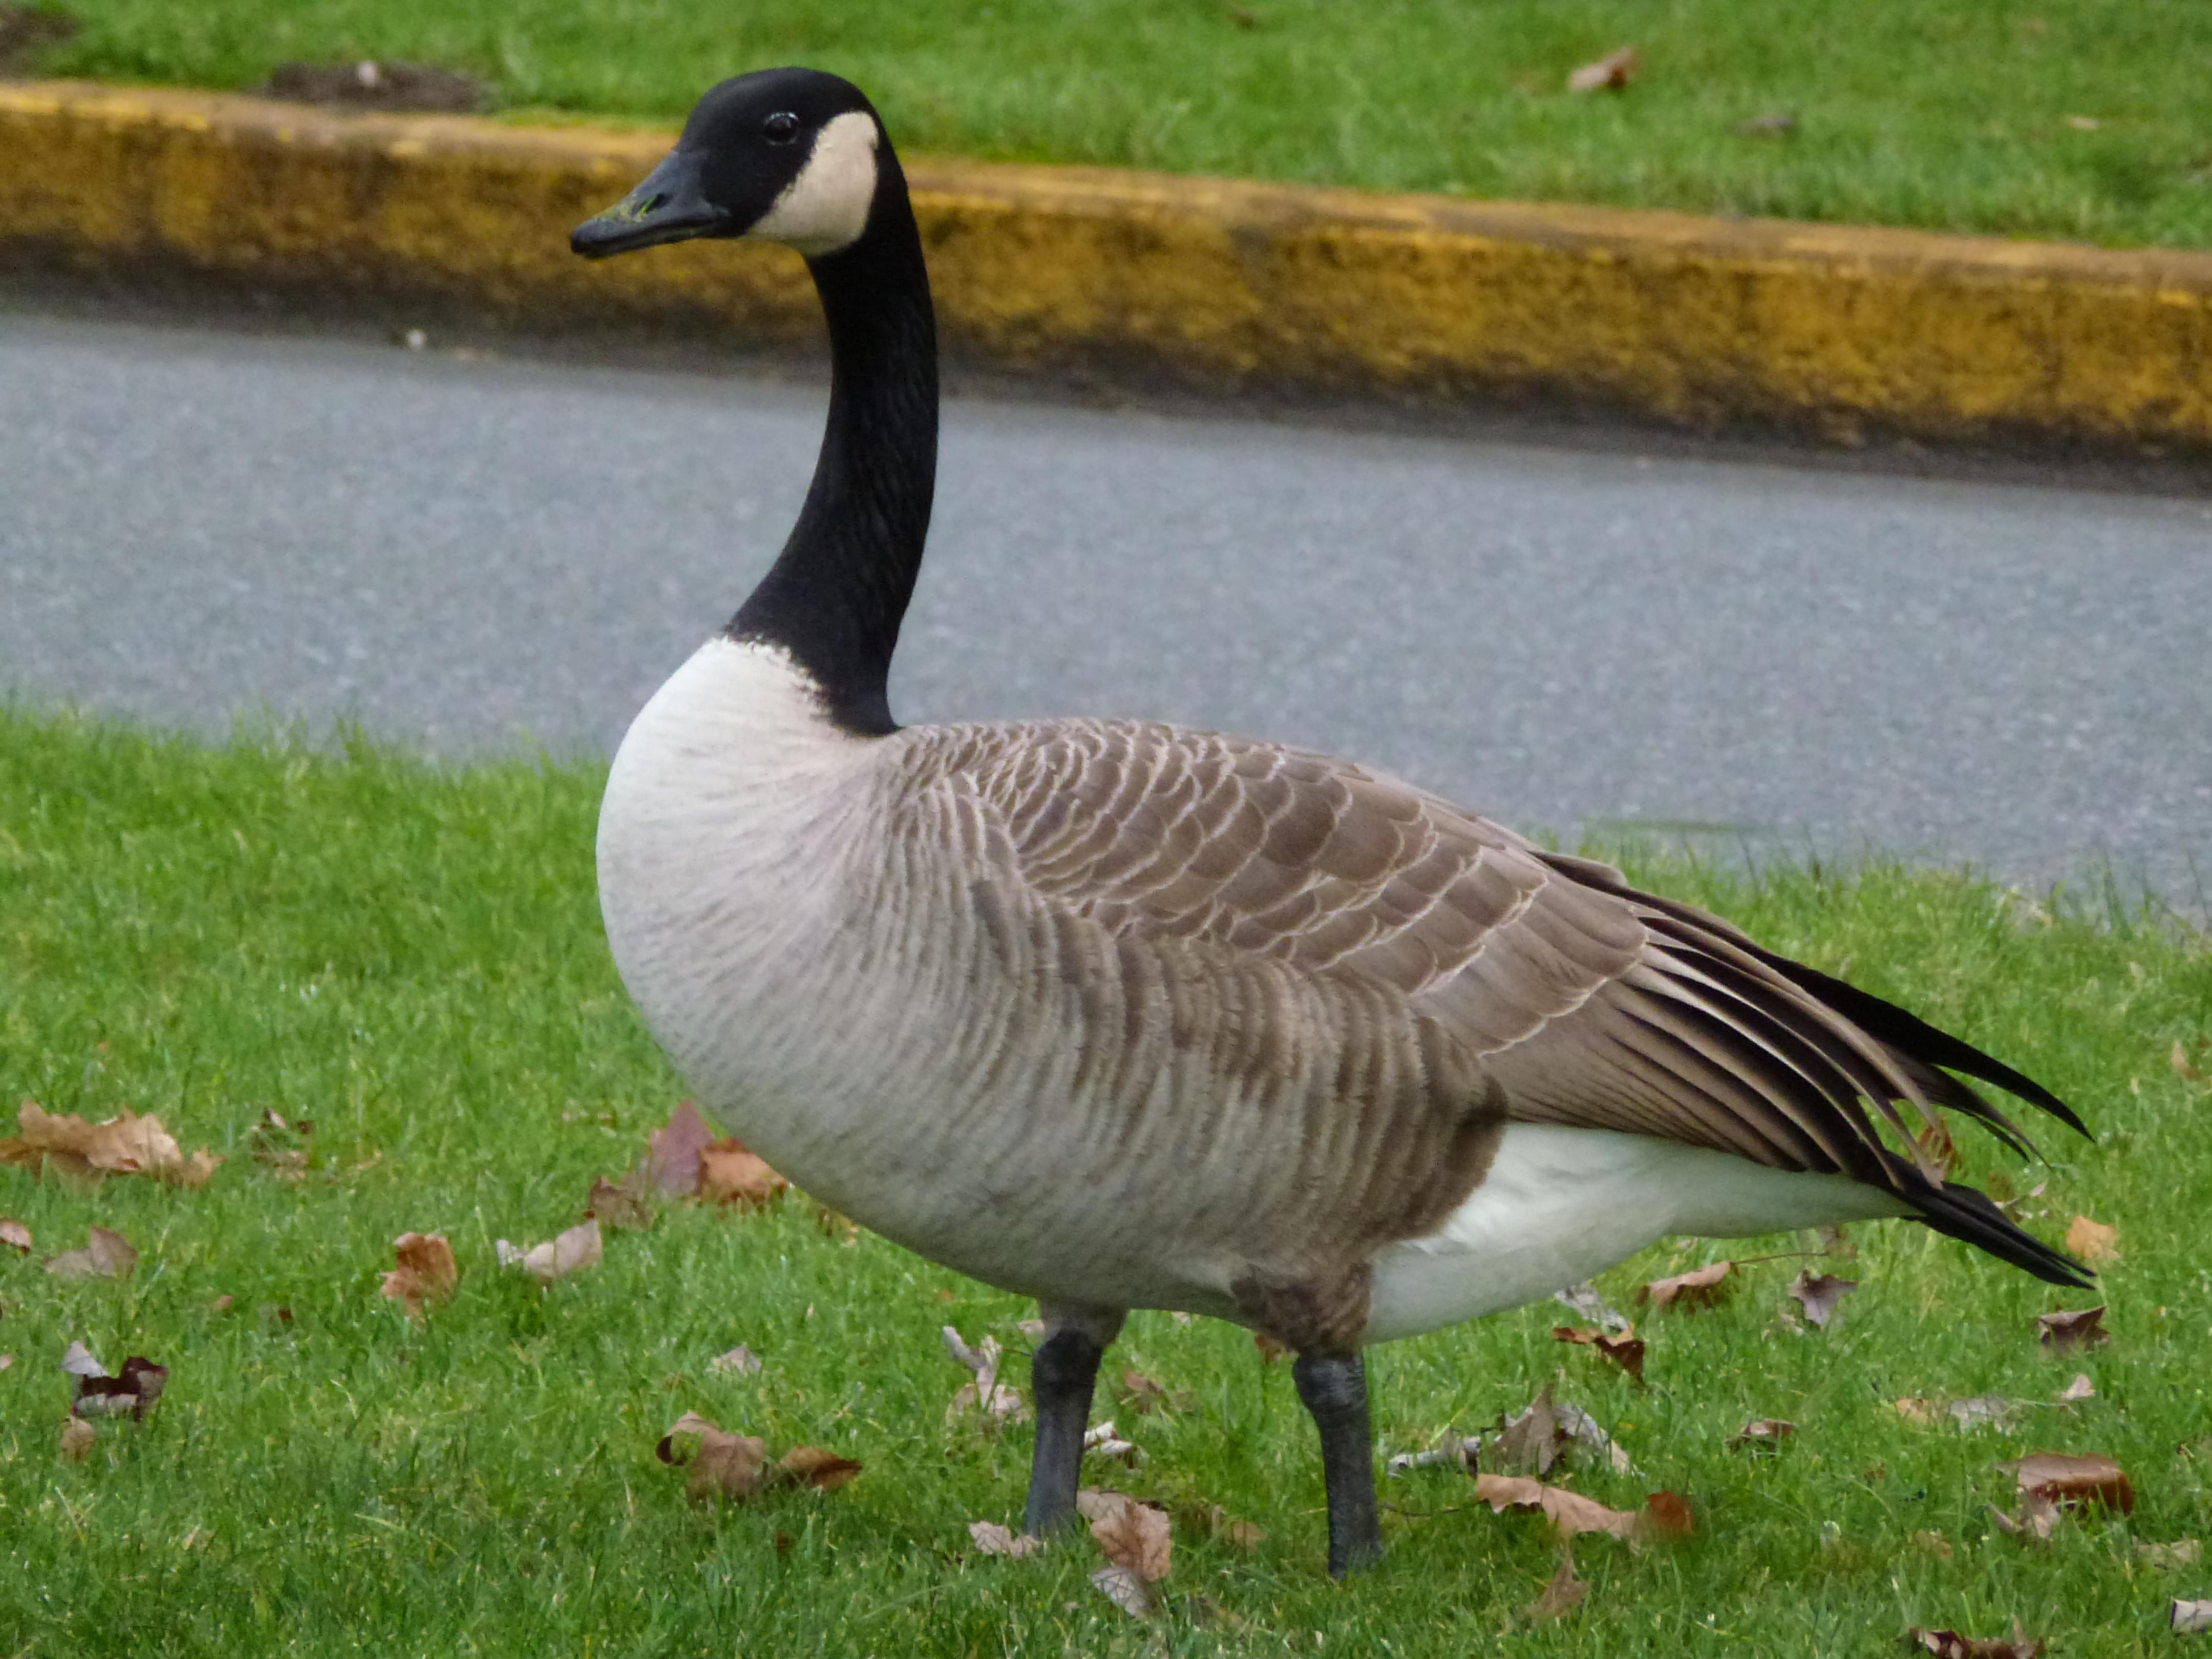Canadian-Goose: (564, 68, 2094, 1574)
